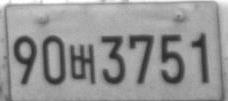0: (41, 34, 66, 85)
1: (189, 31, 215, 84)
3: (99, 34, 126, 85)
5: (159, 33, 186, 84)
7: (128, 33, 155, 85)
9: (12, 34, 38, 86)
버: (68, 42, 96, 84)
